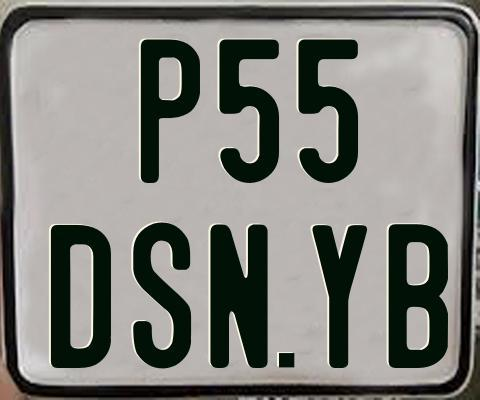5: (219, 36, 280, 185), (298, 37, 360, 182)
B: (388, 222, 451, 367)
D: (48, 223, 109, 368)
N: (207, 223, 268, 369)
P: (140, 39, 200, 187)
S: (132, 221, 195, 373)
Y: (312, 222, 368, 367)
